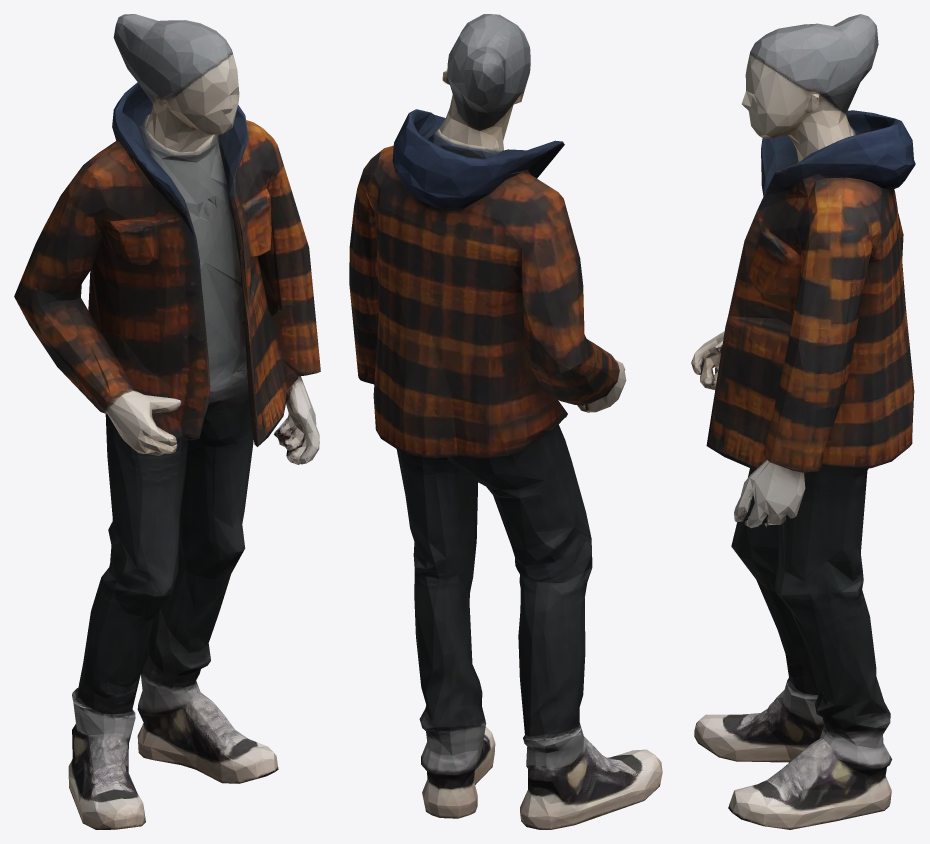
File: kiosk_shop_small_2.glb
3 renders of one model, left to right at view 1: azimuth 30°, elevation 25°; view 2: azimuth 150°, elevation 25°; view 3: azimuth 270°, elevation 25°, orthographic. The views are drawn at different scales.
Parts seen in each view (by area): view 1: geometry_0; view 2: geometry_0; view 3: geometry_0.
Part boxes in pixels (x1,y1,x2,y2): geometry_0: (14,14,320,829); geometry_0: (349,14,662,829); geometry_0: (691,14,915,829).
Bounding box in the file's own units: 0.3564 × 0.9992 × 0.2633.
1 material, 1 textured.
